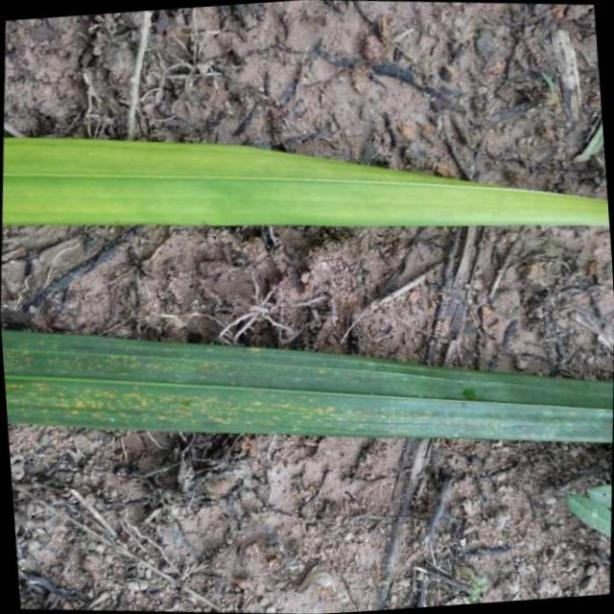nitrogen: (5, 328, 614, 443), (0, 133, 614, 232)
